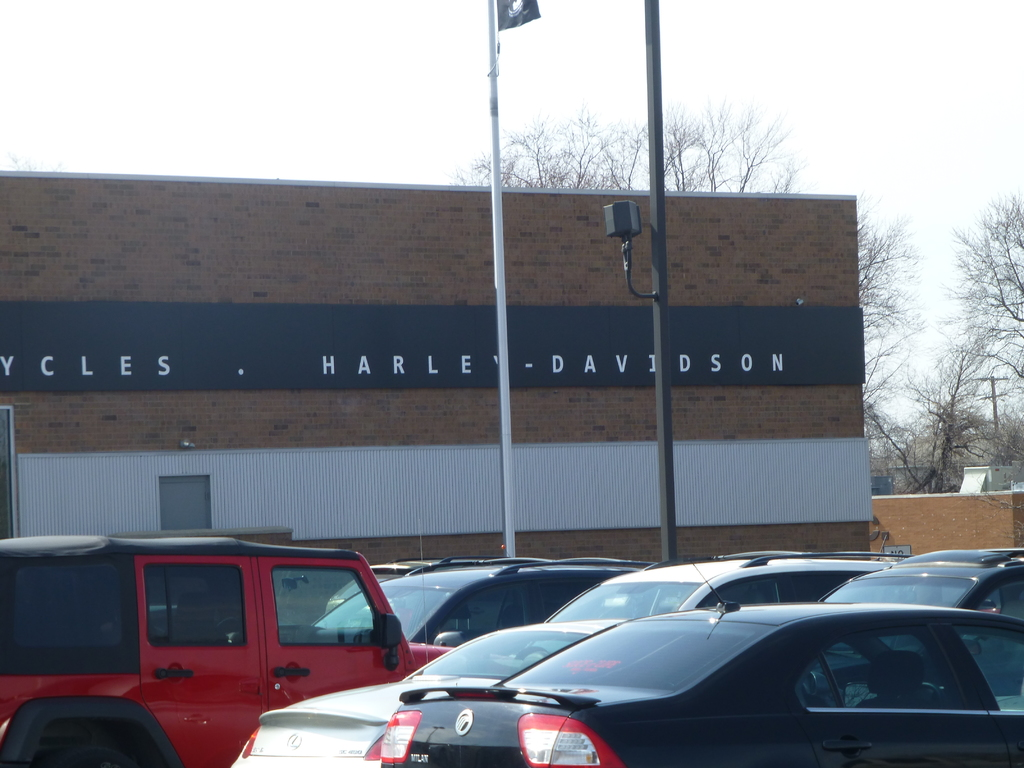Car: (232, 547, 904, 764), (311, 535, 655, 648), (823, 543, 1023, 619)
